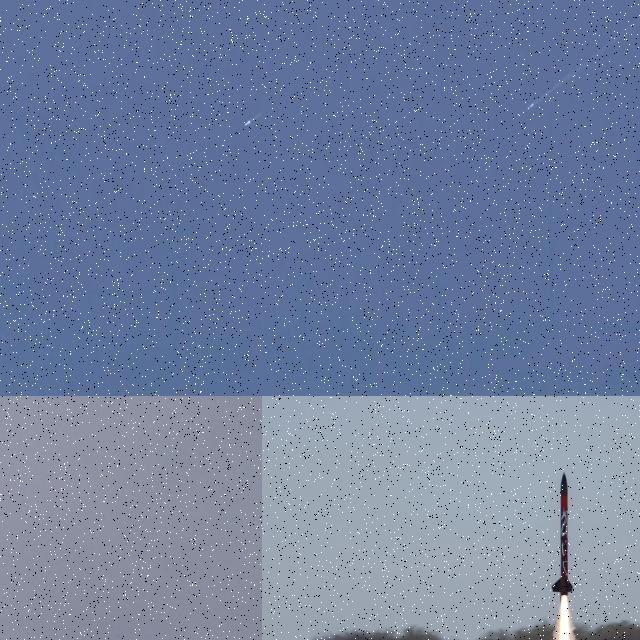Rocket: (552, 471, 573, 598), (244, 120, 251, 128), (527, 103, 534, 110)
